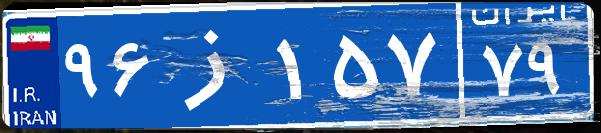1: (273, 28, 330, 110)
5: (330, 28, 385, 110)
6: (110, 28, 158, 105)
7: (385, 28, 445, 110), (475, 38, 525, 113)
9: (57, 26, 110, 107), (525, 38, 570, 115)
ز: (158, 15, 273, 115)
